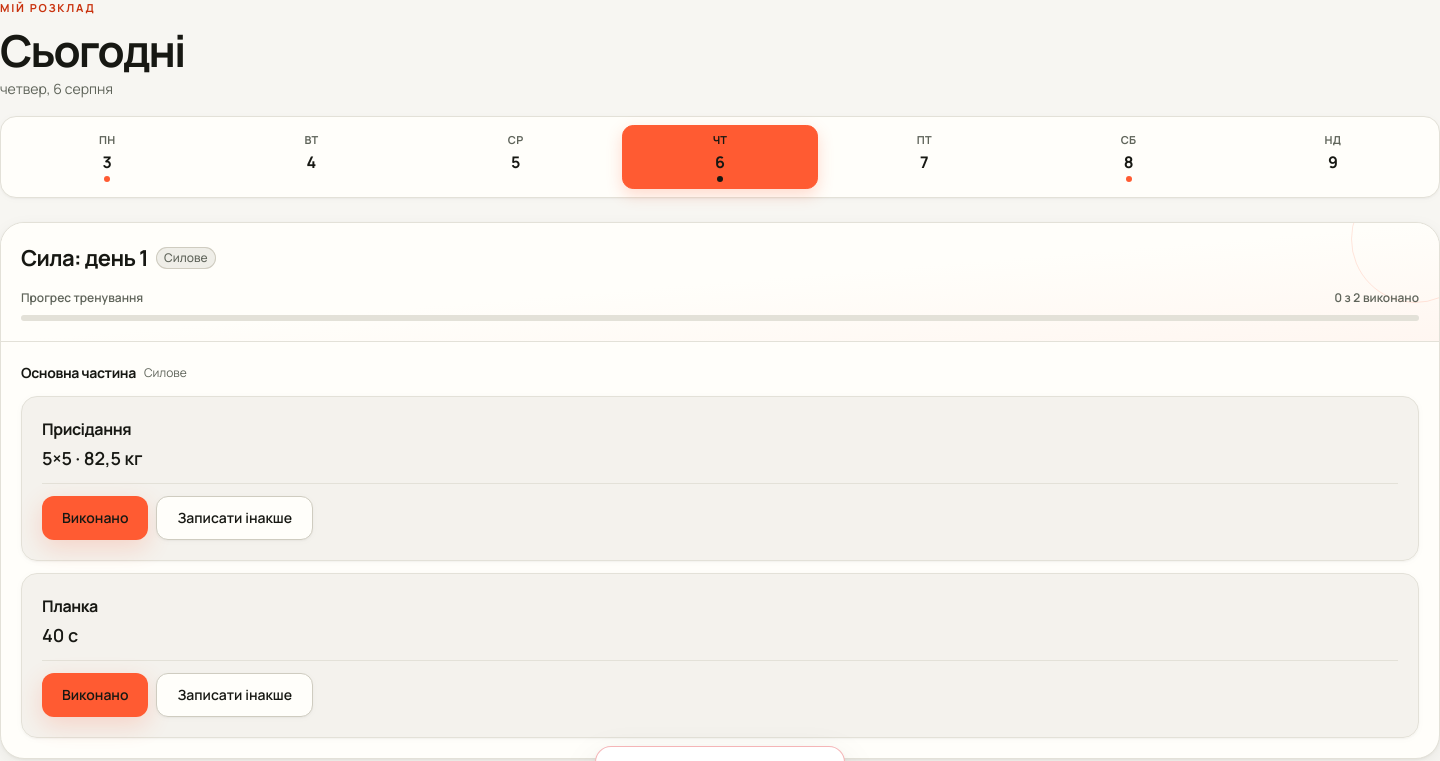
Test case: workout logging › mirrors the prescription: a plank asks for seconds, not reps and kilograms
Expected: the heading "Планка" is shown, [42, 595, 98, 617]
Click the button "Записати інакше" below "40 с" at (235, 695), box [156, 673, 313, 717]
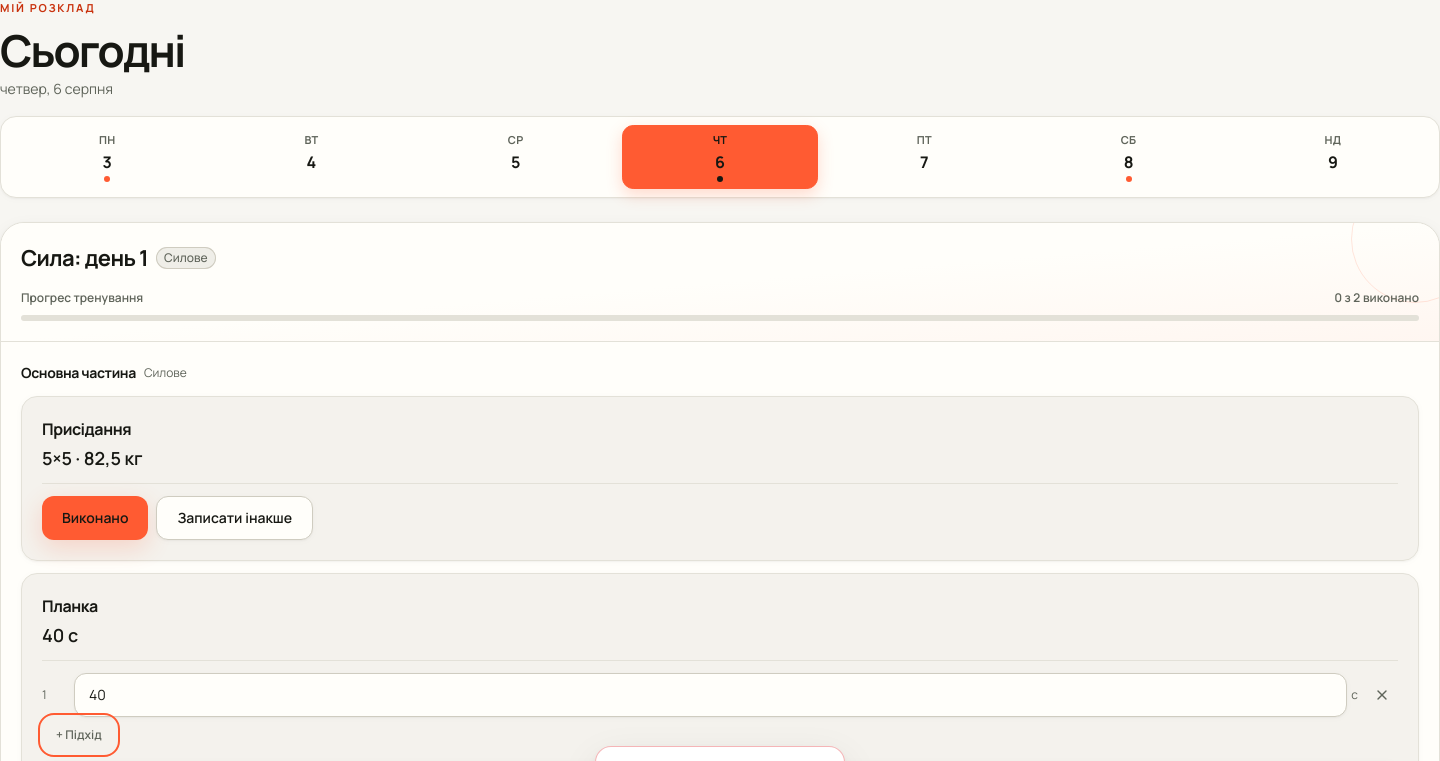
Expected: the field named "Підхід 1, секунди" holds "40", [74, 673, 1347, 717]
